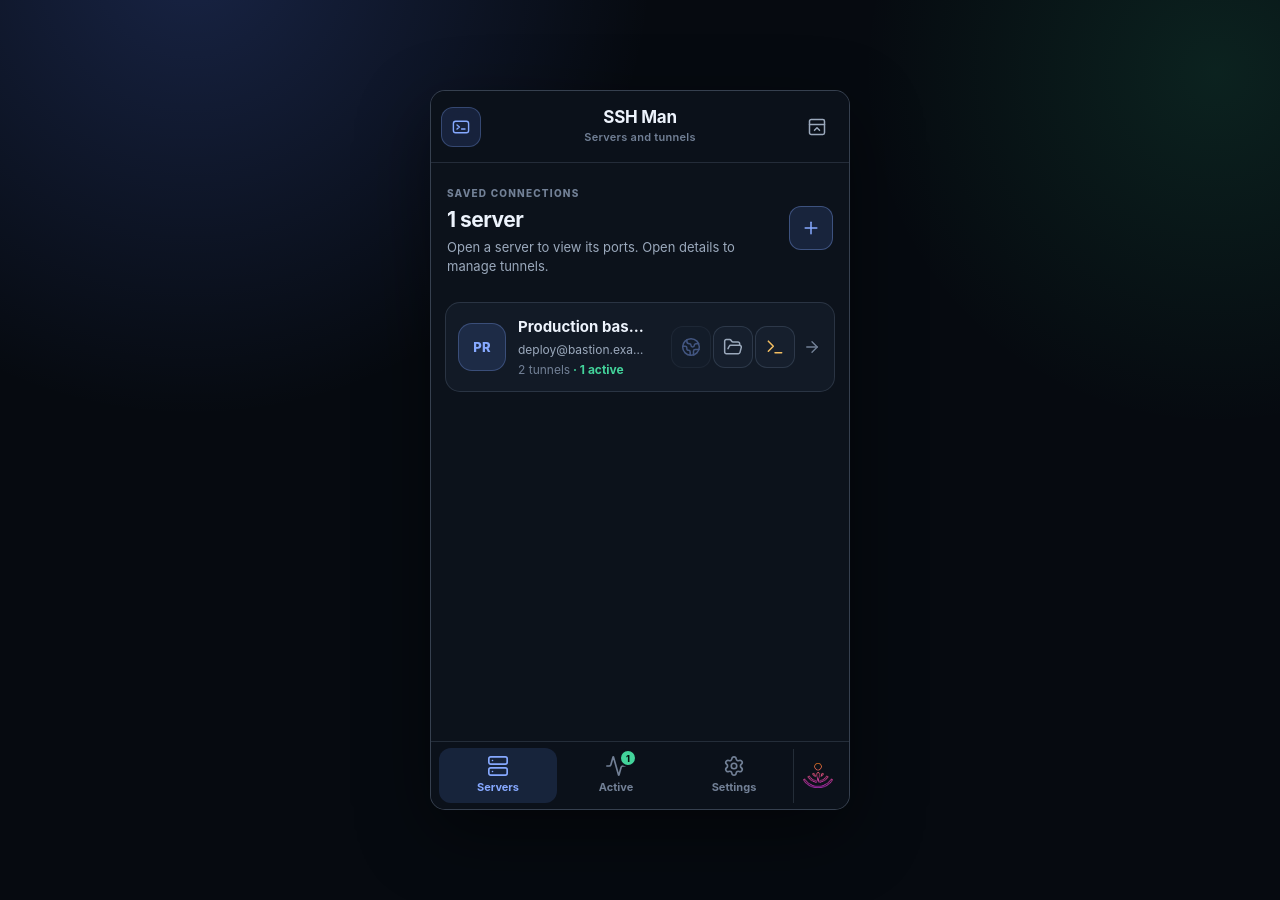
Test: React application flows › bulk start only starts inactive tunnels and leaves connected tunnels alone
Click the button named "Show Production bastion details" at (812, 347), box [797,326,827,368]
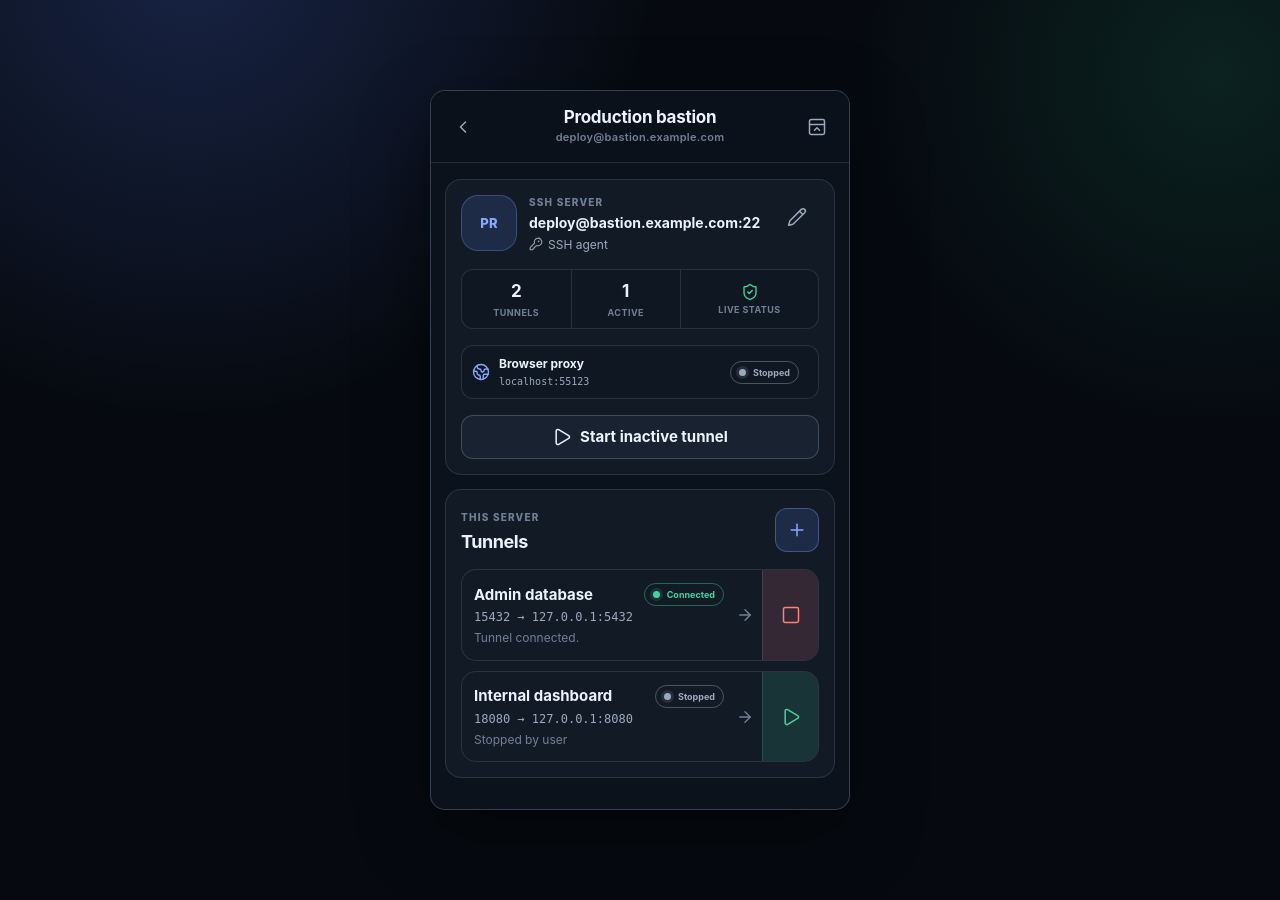
Click the button "Start inactive tunnel" at (640, 437), box [461,415,819,459]
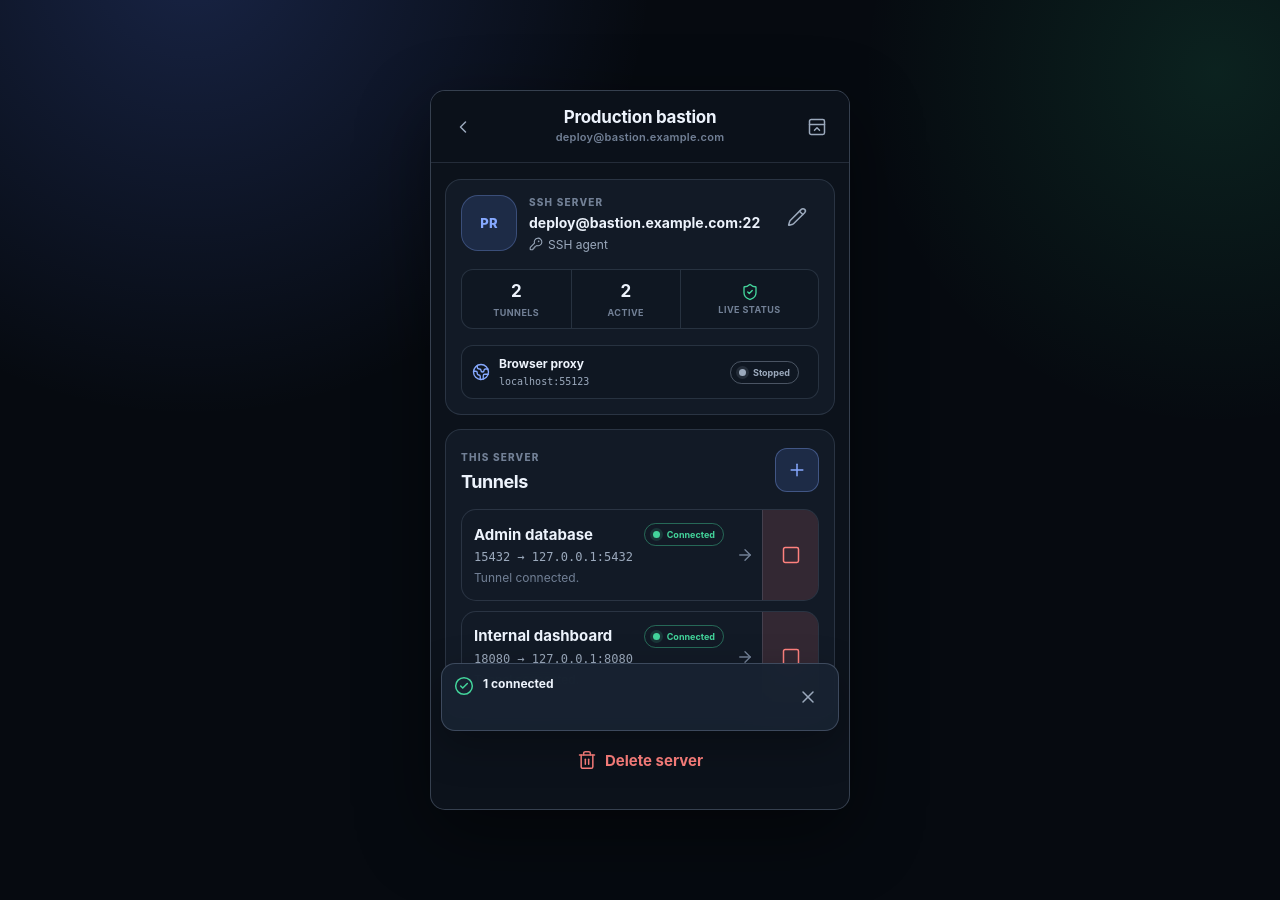
Now the number of elements named "Tunnel status: Connected" is 2, box [644,523,724,546]; [644,625,724,648]
Now the button "Start inactive tunnel" is gone
